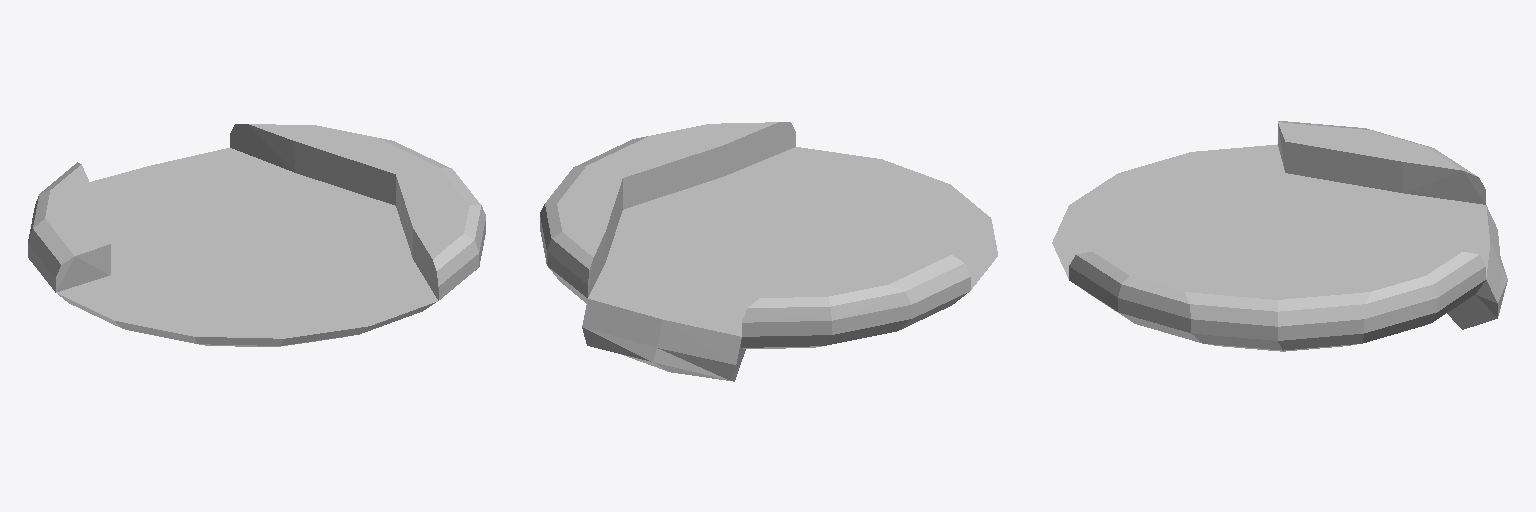
The model's file is Level2StartPlat.obj.
The picture shows the model from 3 angles: view 1: azimuth 30°, elevation 25°; view 2: azimuth 150°, elevation 25°; view 3: azimuth 270°, elevation 25°; orthographic projection.
Visible parts, largest first — view 1: Level2StartPlat_Plane.025; view 2: Level2StartPlat_Plane.025; view 3: Level2StartPlat_Plane.025.
Boxes of the visible parts, box(x1,y1,x2,y2) form: Level2StartPlat_Plane.025: box(28, 124, 485, 346); Level2StartPlat_Plane.025: box(540, 122, 997, 381); Level2StartPlat_Plane.025: box(1052, 121, 1507, 351).
Bounding box in the file's own units: 121 × 25.85 × 119.